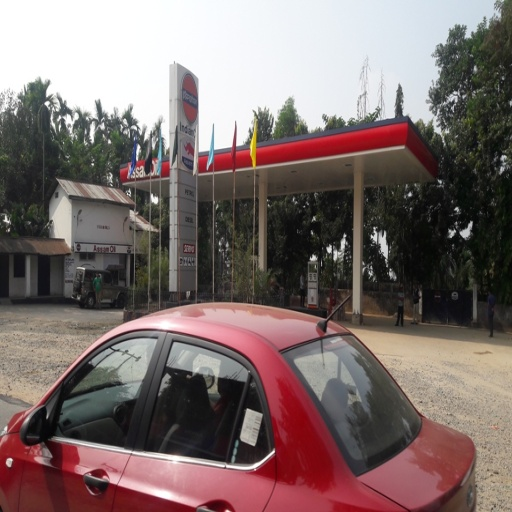roof: (124, 114, 436, 216)
